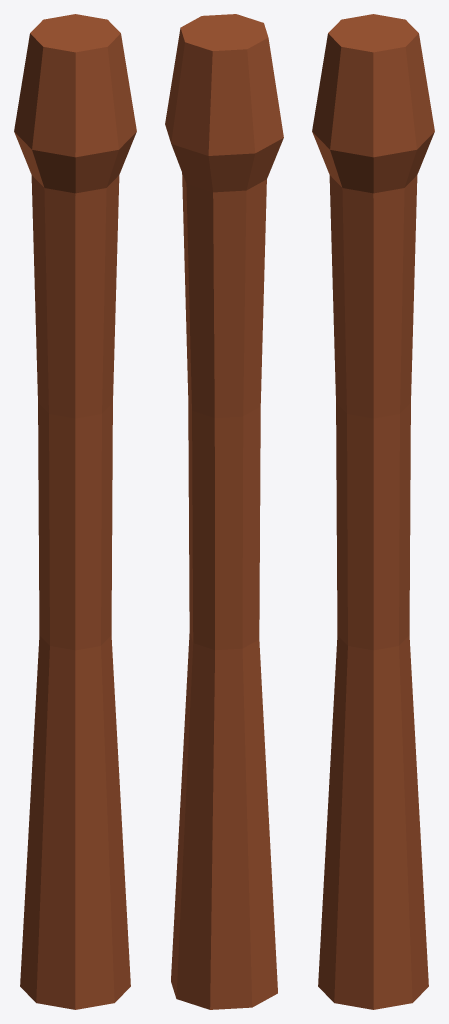
The model's file is Vegetation_Tree_Trunk_Palm_Simple_03.FBX.
3 renders of one model, left to right at view 1: azimuth 90°, elevation 25°; view 2: azimuth 210°, elevation 25°; view 3: azimuth 270°, elevation 25°, orthographic.
Visible parts, largest first — view 1: Vegetation_Tree_Trunk_Palm_Simple_03; view 2: Vegetation_Tree_Trunk_Palm_Simple_03; view 3: Vegetation_Tree_Trunk_Palm_Simple_03.
Part boxes in pixels (x1,y1,x2,y2): Vegetation_Tree_Trunk_Palm_Simple_03: (14,14,136,1009); Vegetation_Tree_Trunk_Palm_Simple_03: (165,14,283,1009); Vegetation_Tree_Trunk_Palm_Simple_03: (312,14,434,1009).
Bounding box in the file's own units: 450 × 3850 × 450.
